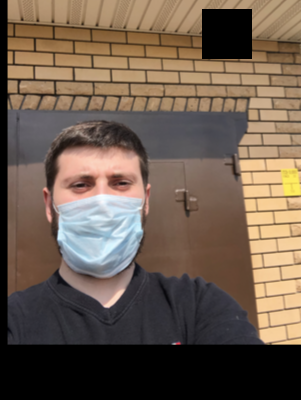with_mask: (52, 159, 145, 280)
